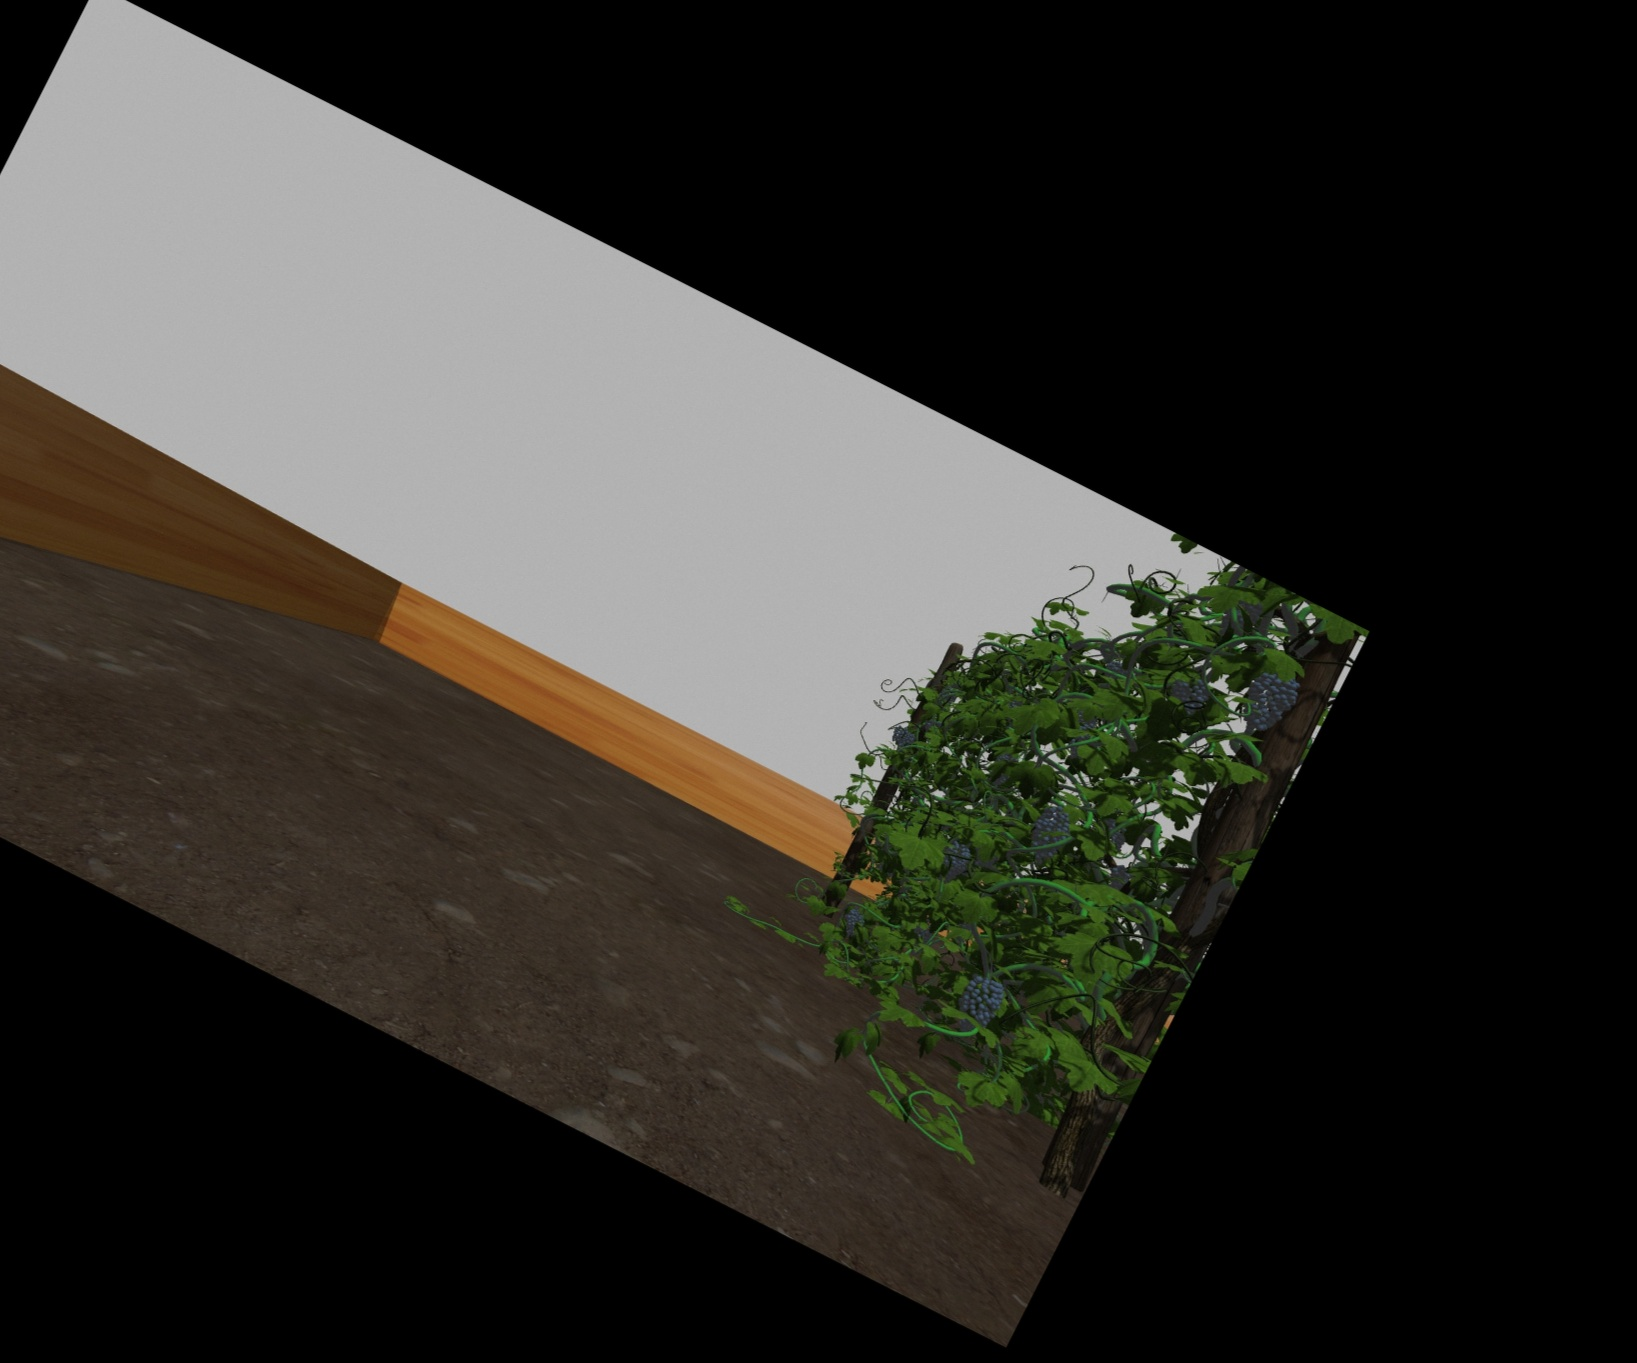grape: (1250, 671, 1292, 732), (963, 978, 1002, 1026), (1032, 809, 1065, 857), (1171, 675, 1206, 711), (940, 843, 965, 883), (842, 910, 862, 937), (901, 732, 914, 750), (891, 726, 903, 744)
